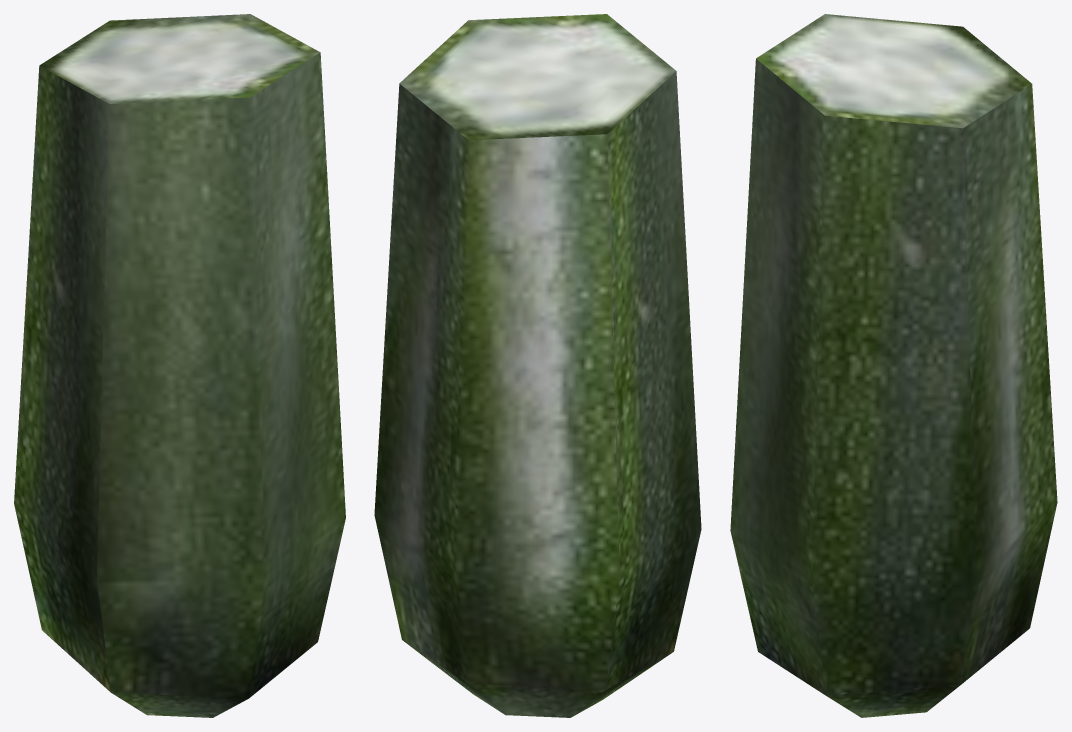
The model's file is Zucchini_001.glb.
3 views of the same model, side by side, from view 1: azimuth 30°, elevation 25°; view 2: azimuth 150°, elevation 25°; view 3: azimuth 270°, elevation 25° (orthographic).
Visible parts, largest first — view 1: Zucchini.001; view 2: Zucchini.001; view 3: Zucchini.001.
Boxes of the visible parts, bbox=[...] form: Zucchini.001: bbox=[14, 14, 345, 717]; Zucchini.001: bbox=[374, 14, 701, 717]; Zucchini.001: bbox=[730, 14, 1057, 717].
Size of the model in its own units: 0.0739 by 0.1837 by 0.0853.
1 material, 1 textured.
